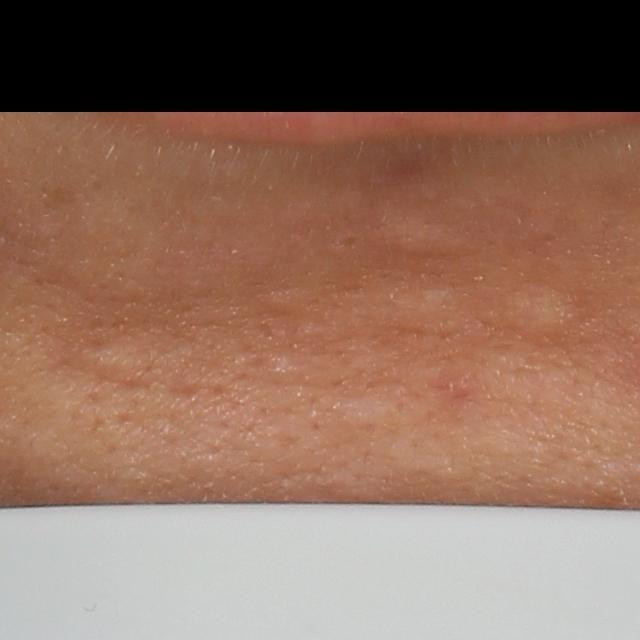hypertrophic_scar: (350, 281, 482, 330), (369, 213, 487, 262), (508, 280, 590, 336), (73, 344, 150, 386), (331, 393, 402, 431)
